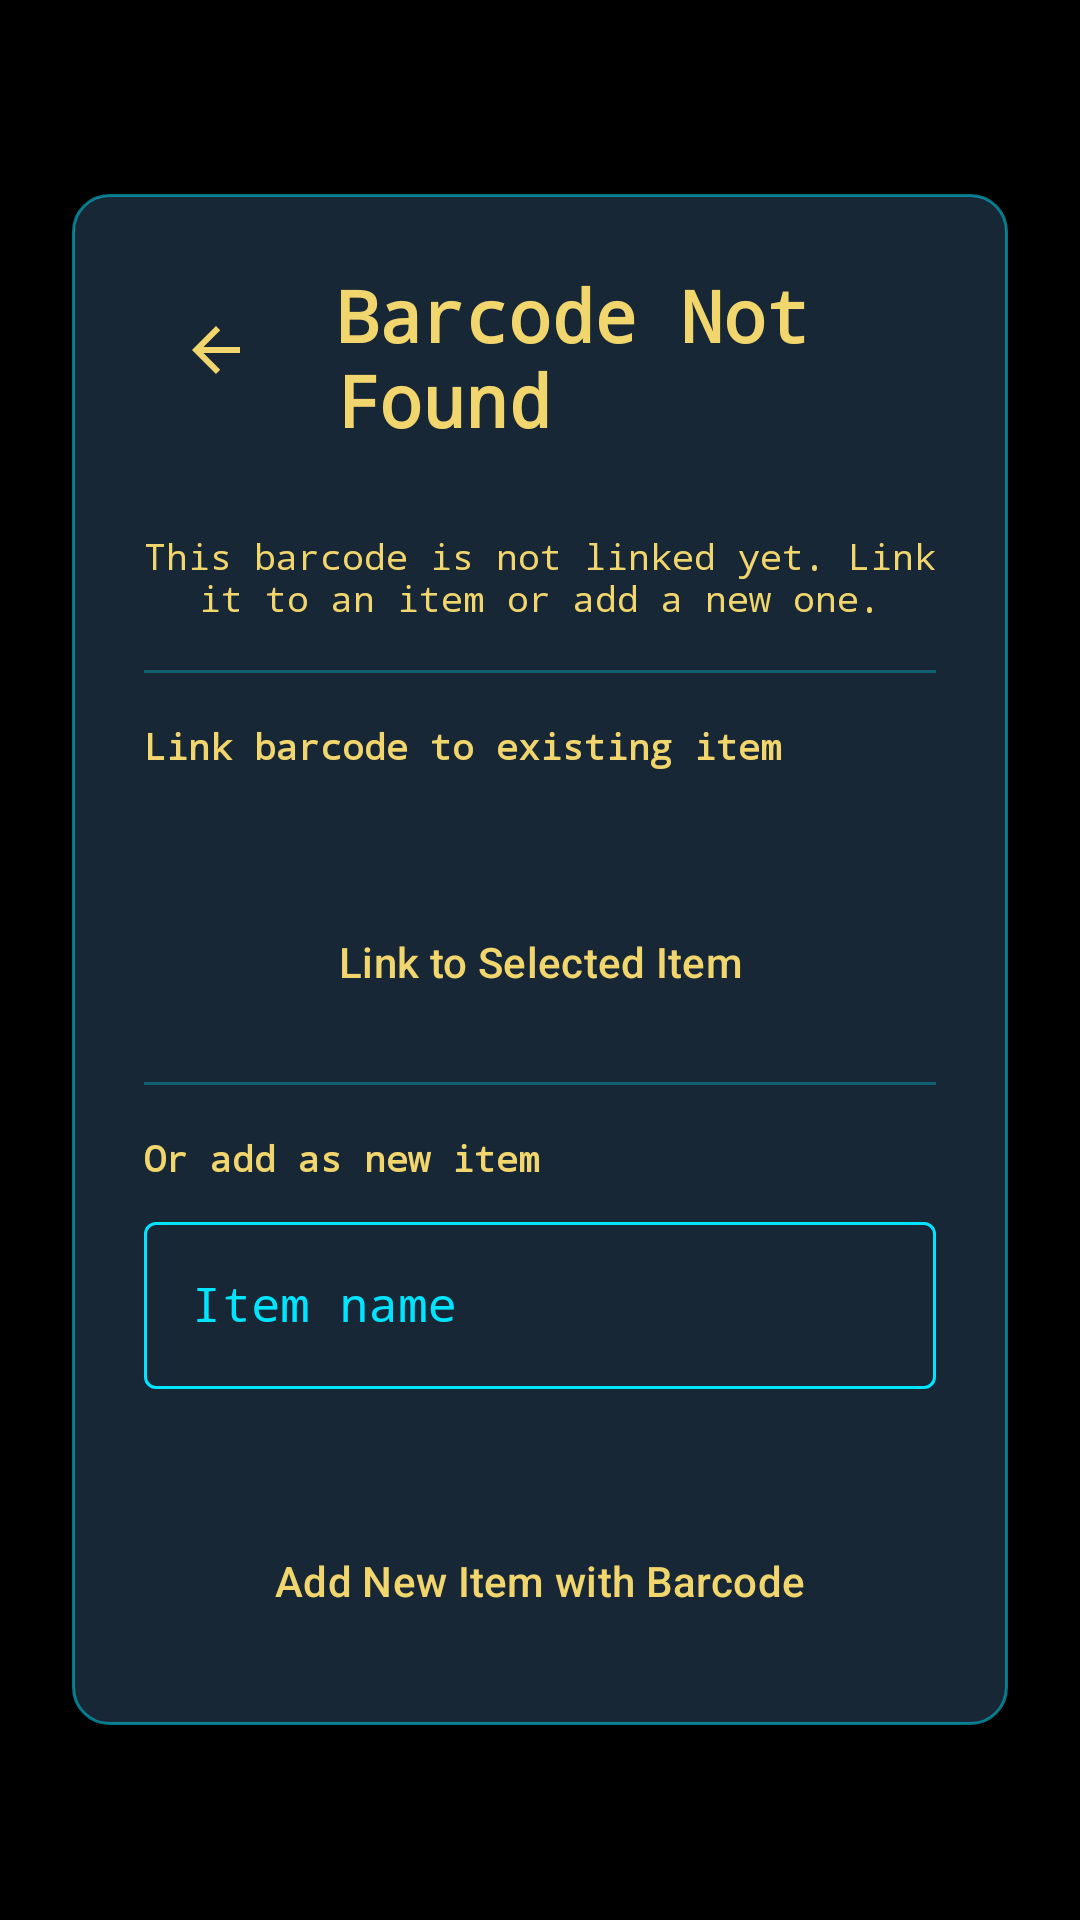

Screen size 1080px×1920px. Icon name, then its center in pixels as (x=x, y=y):
Back: (x=216, y=350)
